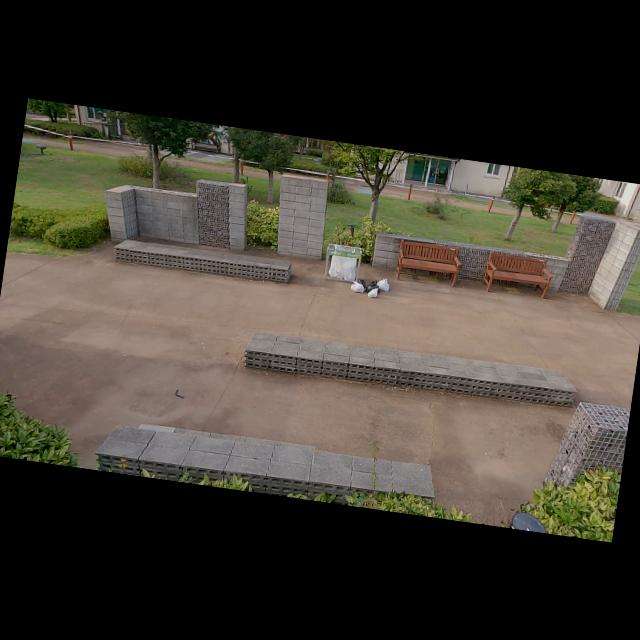trash: (364, 277, 382, 295), (374, 276, 391, 293), (348, 280, 366, 294), (366, 286, 379, 298), (356, 278, 366, 289)
